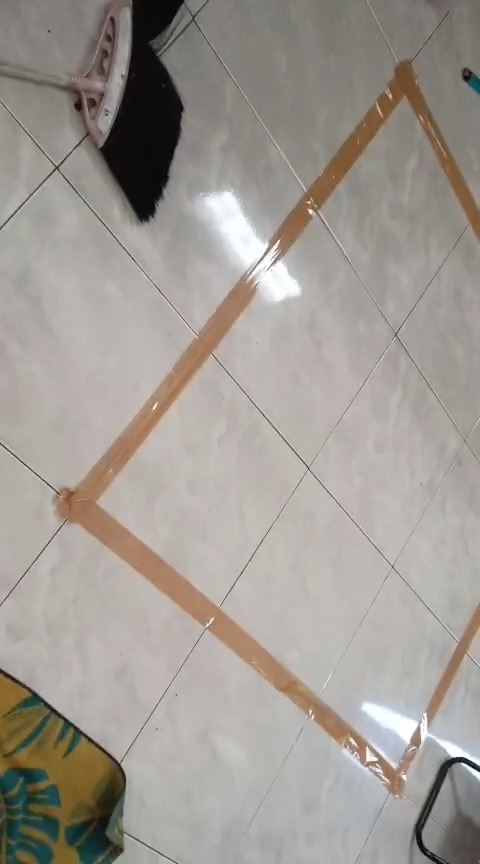floor marking: (56, 61, 479, 793)
